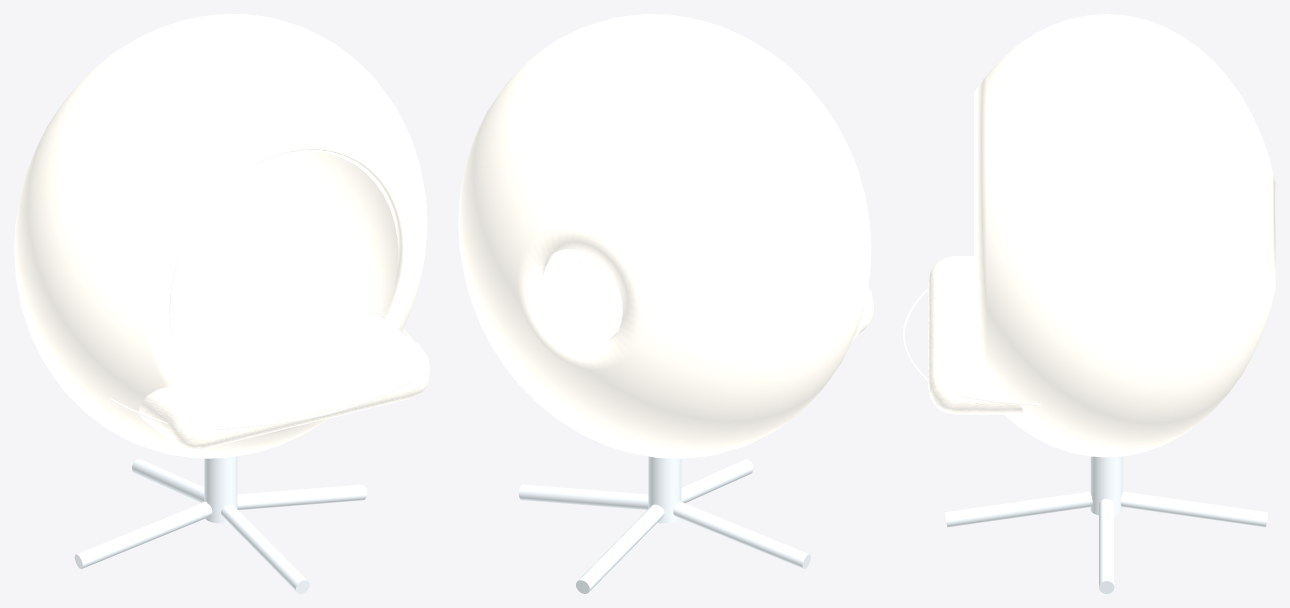
The model's file is ref06_11.glb.
3 renders of one model, left to right at view 1: azimuth 30°, elevation 25°; view 2: azimuth 150°, elevation 25°; view 3: azimuth 270°, elevation 25°, orthographic. The views are drawn at different scales.
Parts seen in each view (by area): view 1: ref06_11; view 2: ref06_11; view 3: ref06_11.
Part boxes in pixels (x1=…): ref06_11: x1=14, y1=14, x2=429, y2=593; ref06_11: x1=458, y1=14, x2=873, y2=593; ref06_11: x1=902, y1=14, x2=1275, y2=593.
Bounding box in the file's own units: 0.9199 × 1.19 × 0.8153.
Materials: 2 (1 with a texture image).
